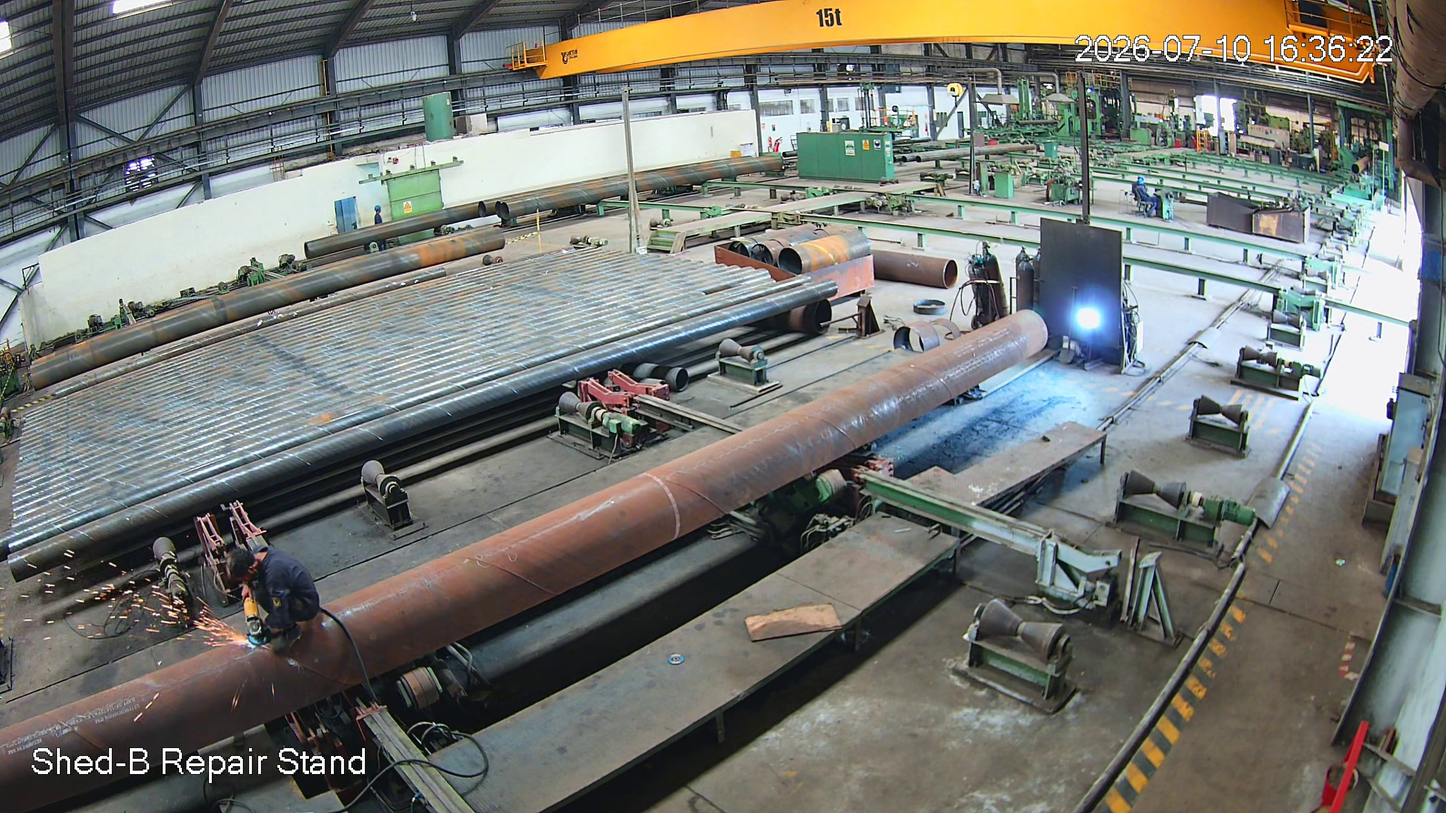Person: (223, 540, 334, 661)
